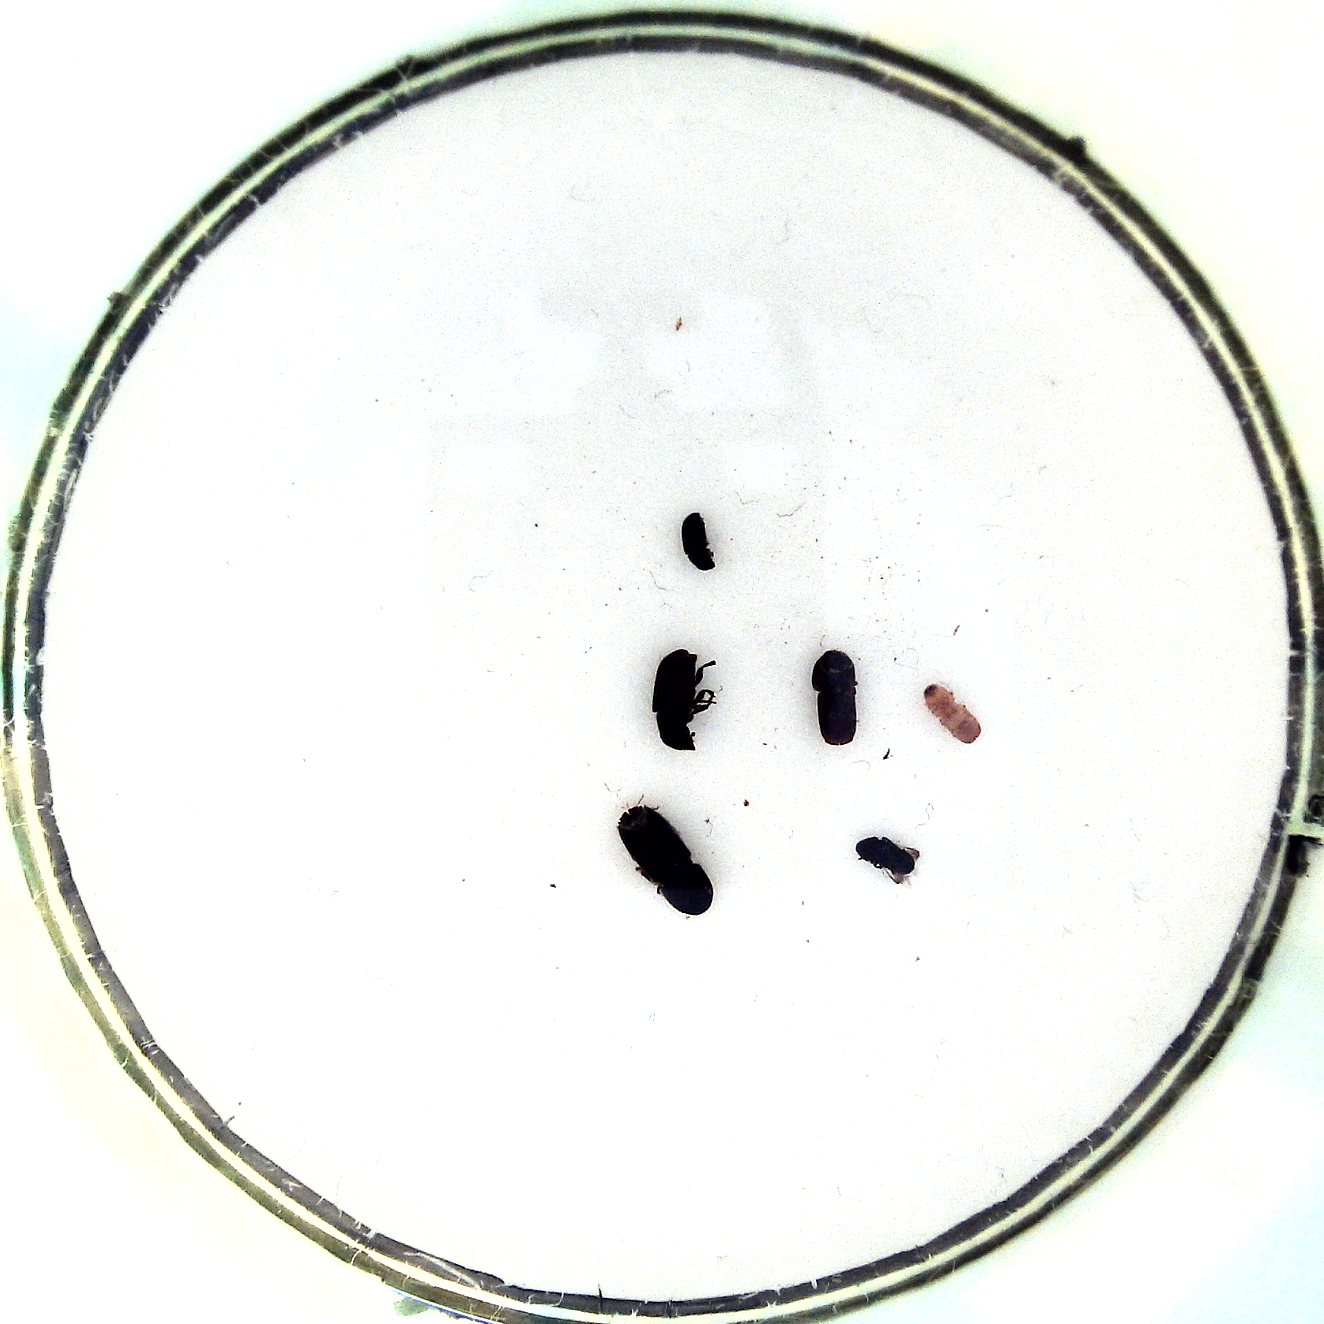Boerner: (614, 800, 721, 920)
Linnaeus: (807, 643, 862, 751)
acuminatus: (918, 675, 985, 746)
armandi: (646, 641, 723, 753)
coleoptera: (851, 831, 926, 889), (679, 508, 721, 577)
